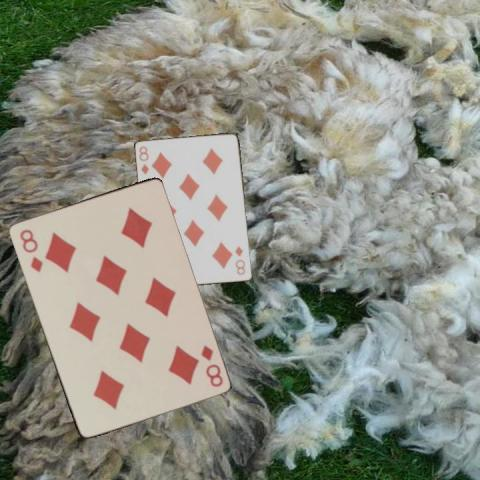8d: (16, 226, 44, 274), (197, 341, 224, 389), (232, 243, 247, 277), (136, 143, 151, 176)
